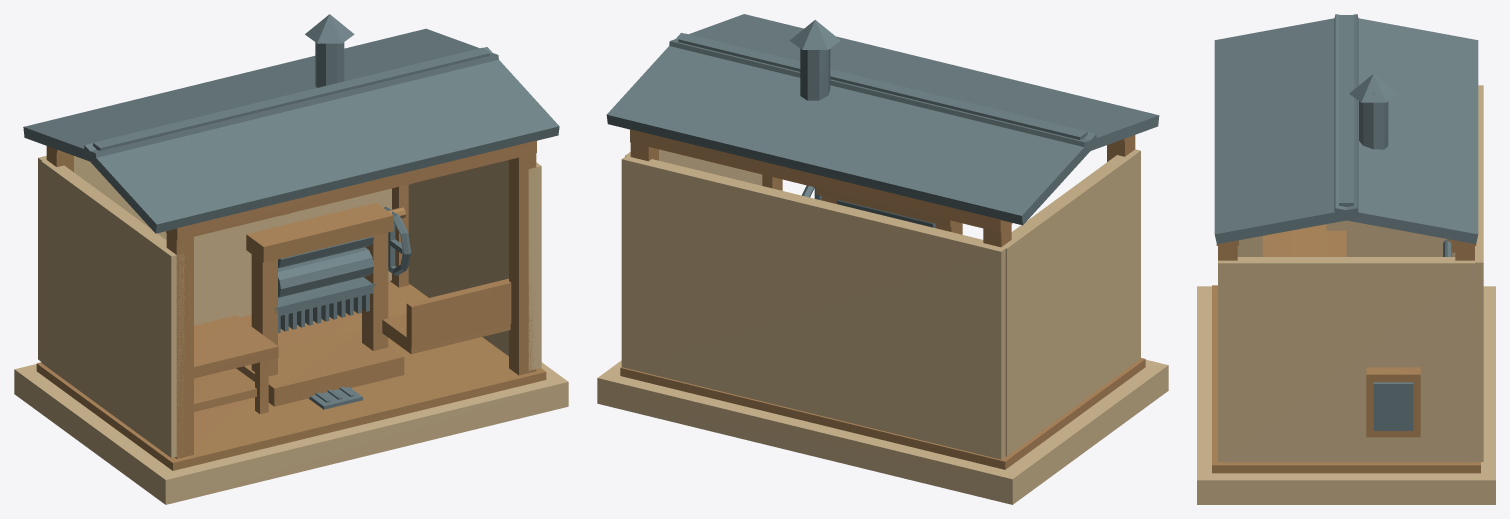
File: Noodle-Workshop.glb
3 renders of one model, left to right at view 1: azimuth 30°, elevation 25°; view 2: azimuth 150°, elevation 25°; view 3: azimuth 270°, elevation 25°, orthographic. The views are drawn at different scales.
Visible parts, largest first — view 1: noodle-workshop-static-noodle-workshop-warm-timber-mat, noodle-workshop-static-noodle-workshop-pale-galvanized-mat, noodle-workshop-static-noodle-workshop-cream-plaster-mat, noodle-workshop-static-noodle-workshop-warm-stone-mat, noodle-workshop-static-noodle-workshop-dark-iron-mat; view 2: noodle-workshop-static-noodle-workshop-cream-plaster-mat, noodle-workshop-static-noodle-workshop-pale-galvanized-mat, noodle-workshop-static-noodle-workshop-warm-stone-mat, noodle-workshop-static-noodle-workshop-warm-timber-mat, noodle-workshop-static-noodle-workshop-dark-iron-mat; view 3: noodle-workshop-static-noodle-workshop-cream-plaster-mat, noodle-workshop-static-noodle-workshop-pale-galvanized-mat, noodle-workshop-static-noodle-workshop-warm-stone-mat, noodle-workshop-static-noodle-workshop-warm-timber-mat, noodle-workshop-static-noodle-workshop-dark-iron-mat, noodle-workshop-static-noodle-workshop-muted-teal-fixture-ma.
Part boxes in pixels (x1,y1,x2,y2): noodle-workshop-static-noodle-workshop-warm-timber-mat: [36, 140, 546, 470]; noodle-workshop-static-noodle-workshop-pale-galvanized-mat: [23, 14, 559, 402]; noodle-workshop-static-noodle-workshop-cream-plaster-mat: [38, 155, 541, 457]; noodle-workshop-static-noodle-workshop-warm-stone-mat: [14, 362, 568, 504]; noodle-workshop-static-noodle-workshop-dark-iron-mat: [93, 30, 489, 409]; noodle-workshop-static-noodle-workshop-cream-plaster-mat: [621, 149, 1140, 459]; noodle-workshop-static-noodle-workshop-pale-galvanized-mat: [606, 14, 1159, 227]; noodle-workshop-static-noodle-workshop-warm-stone-mat: [597, 359, 1168, 504]; noodle-workshop-static-noodle-workshop-warm-timber-mat: [620, 129, 1145, 469]; noodle-workshop-static-noodle-workshop-dark-iron-mat: [678, 33, 1087, 200]; noodle-workshop-static-noodle-workshop-cream-plaster-mat: [1218, 85, 1483, 462]; noodle-workshop-static-noodle-workshop-pale-galvanized-mat: [1214, 14, 1478, 244]; noodle-workshop-static-noodle-workshop-warm-stone-mat: [1197, 286, 1495, 504]; noodle-workshop-static-noodle-workshop-warm-timber-mat: [1212, 224, 1480, 473]; noodle-workshop-static-noodle-workshop-dark-iron-mat: [1339, 15, 1451, 430]; noodle-workshop-static-noodle-workshop-muted-teal-fixture-ma: [1366, 239, 1455, 437].
Bounding box in the file's own units: 3.74 × 3.21 × 2.42.
